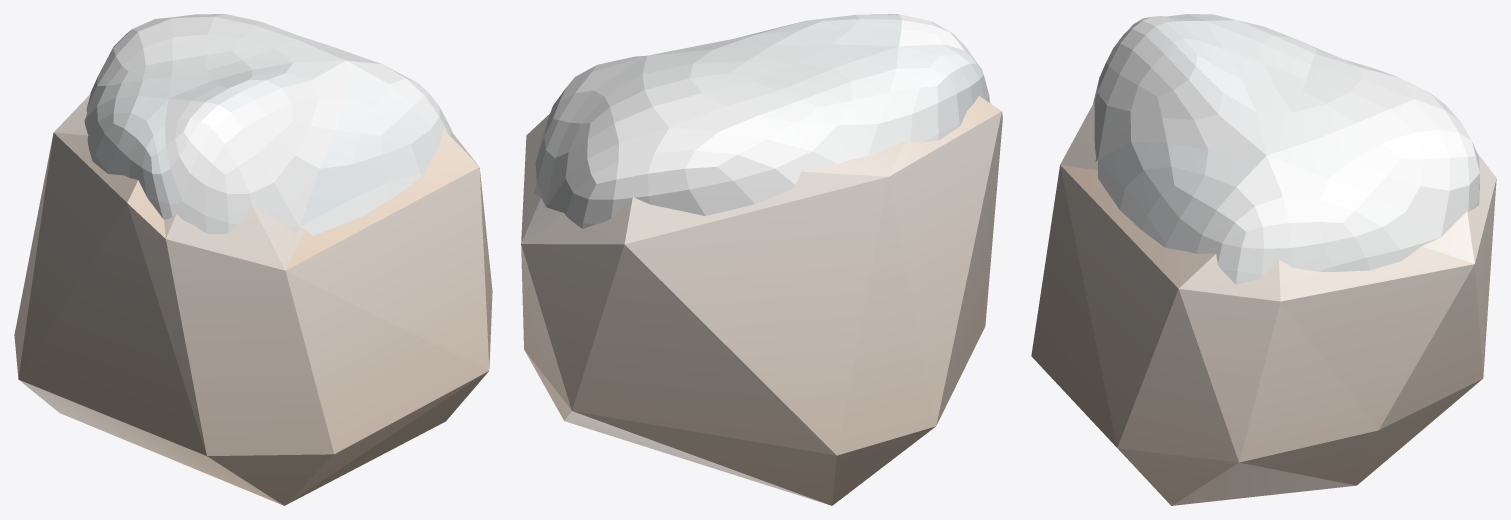
File: roche2_complet.fbx
The picture shows the model from 3 angles, left to right: view 1: azimuth 30°, elevation 25°; view 2: azimuth 150°, elevation 25°; view 3: azimuth 270°, elevation 25°; orthographic projection. The views are drawn at different scales.
Visible parts, largest first — view 1: Cube.003, Cube.006; view 2: Cube.003, Cube.006; view 3: Cube.003, Cube.006.
Boxes of the visible parts, box(x1,y1,x2,y2) form: Cube.003: box(14, 94, 492, 505); Cube.006: box(84, 14, 454, 235); Cube.003: box(521, 96, 1002, 505); Cube.006: box(533, 14, 989, 228); Cube.003: box(1031, 101, 1496, 505); Cube.006: box(1093, 14, 1479, 284).
Size of the model in its own units: 2.93 by 2.52 by 2.8.
1 material, 1 textured.
